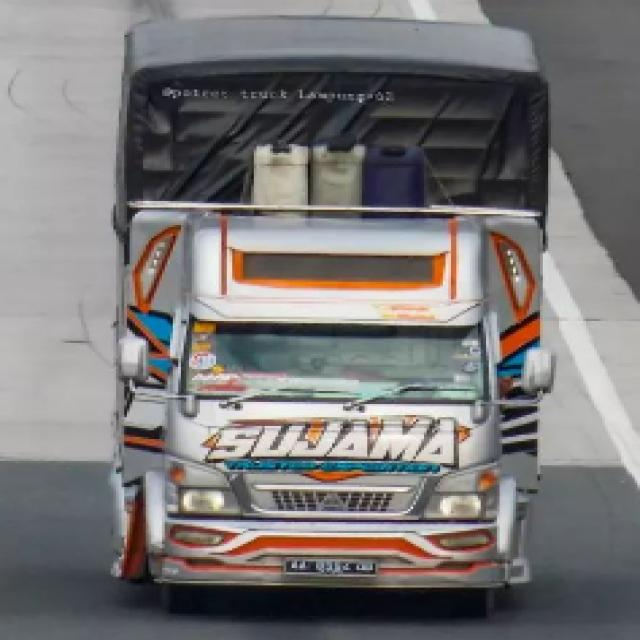Truck: (96, 4, 576, 617)
